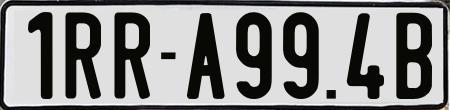1: (25, 9, 50, 96)
4: (347, 11, 388, 100)
9: (233, 9, 274, 101), (283, 10, 322, 102)
A: (184, 11, 227, 99)
B: (393, 12, 432, 103)
R: (65, 11, 101, 103), (111, 12, 148, 99)
